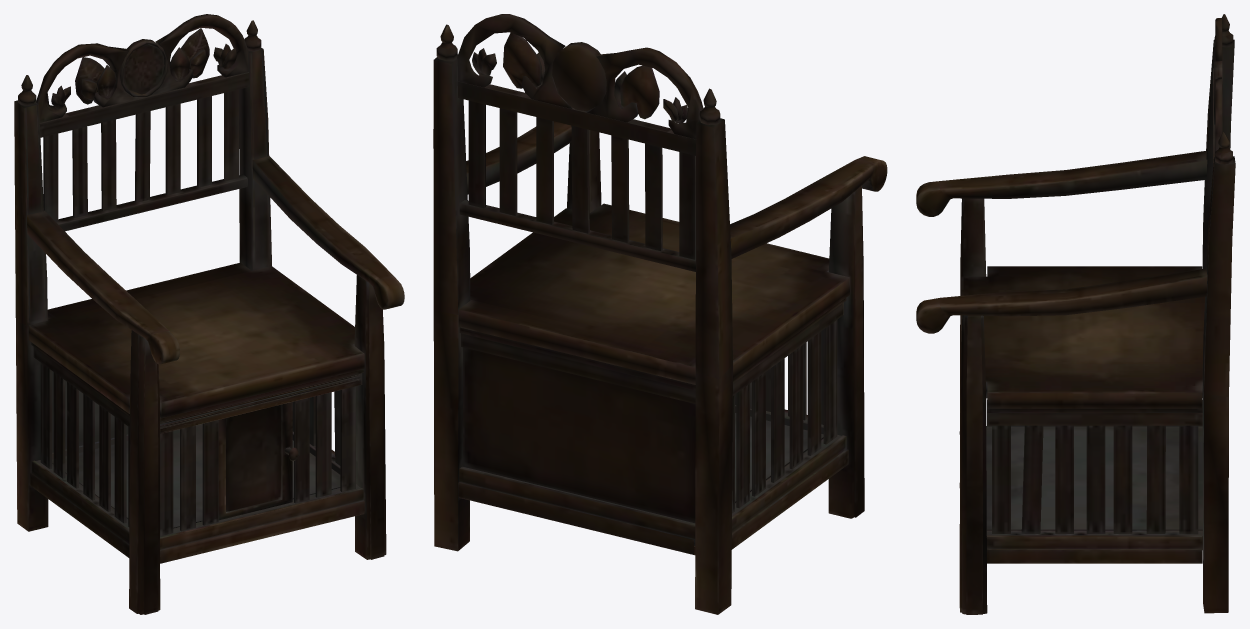
Rendered from silla.glb.
The picture shows the model from 3 angles, left to right: view 1: azimuth 30°, elevation 25°; view 2: azimuth 150°, elevation 25°; view 3: azimuth 270°, elevation 25°; orthographic projection. The views are drawn at different scales.
Visible parts, largest first — view 1: gallinera_chair; view 2: gallinera_chair; view 3: gallinera_chair.
Boxes of the visible parts, x1,y1,x2,y2 form: gallinera_chair: (14,14,404,614); gallinera_chair: (433,14,887,614); gallinera_chair: (916,14,1235,614).
Size of the model in its own units: 0.58 by 1.03 by 0.6015.
1 material, 1 textured.
